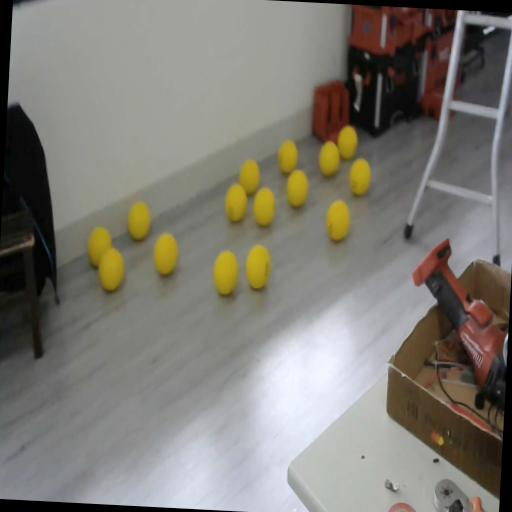FUEL: (96, 245, 126, 293), (244, 242, 272, 291), (212, 248, 240, 296), (152, 232, 180, 277), (324, 198, 352, 242), (125, 200, 152, 242), (224, 180, 248, 224), (252, 185, 276, 227), (348, 156, 373, 196), (317, 138, 341, 178), (238, 156, 262, 196), (286, 168, 310, 208), (276, 137, 300, 175), (336, 124, 358, 160)
